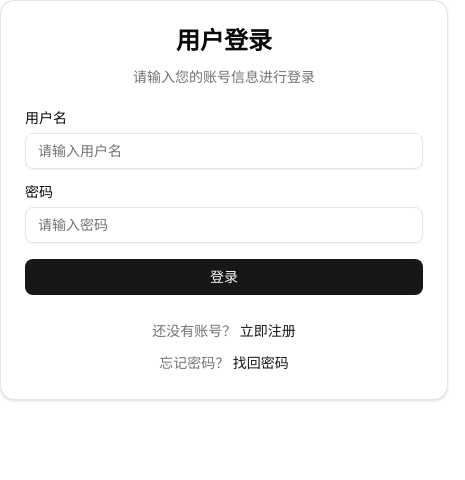
Scenario: LoginForm › handles login failure
The width and height of the screenshot is (465, 480).
In the field labelled "用户名": [224, 151] box [25,133,423,169], type "testuser"
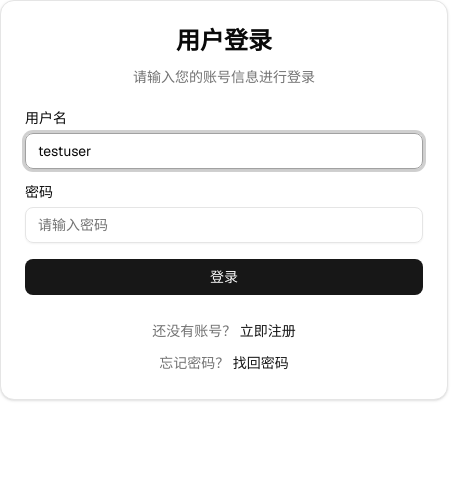
In the password field labelled "密码": [224, 225] box [25,207,423,243], type "wrongpassword"
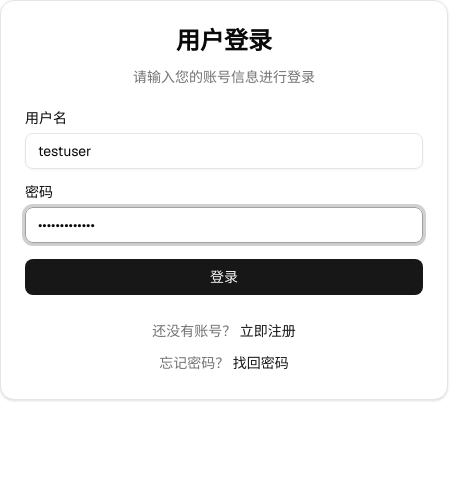
Click the button "登录": [224, 277] box [25,259,423,295]
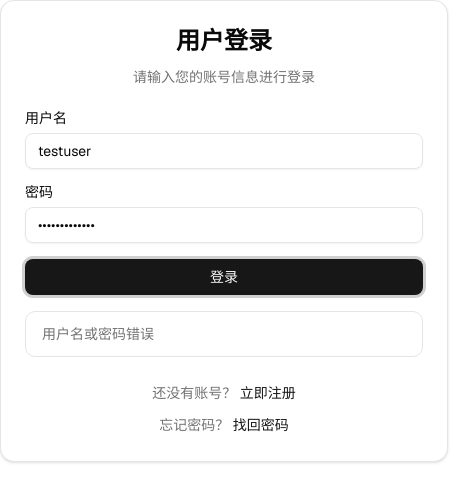
Expected: the text "用户名或密码错误" is shown, [42,325,154,343]
